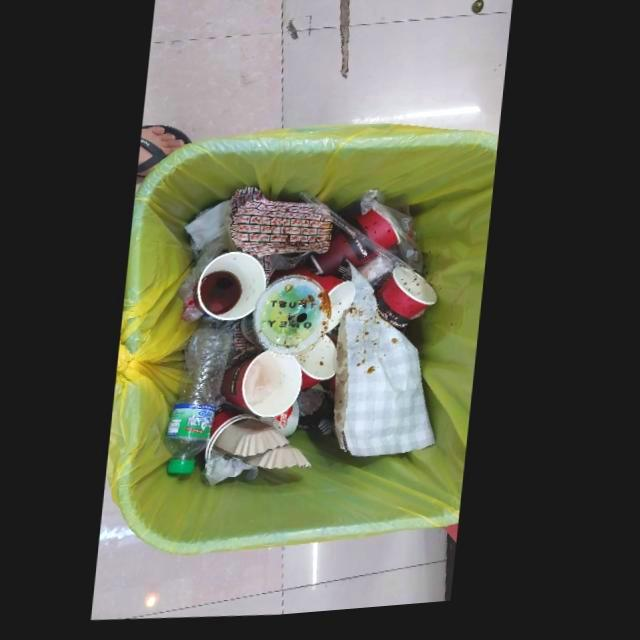cardboard: (233, 204, 337, 263), (225, 356, 307, 422), (197, 256, 269, 325), (294, 273, 359, 339), (380, 274, 441, 340), (314, 233, 380, 280), (353, 215, 404, 256), (298, 341, 341, 386), (250, 449, 317, 475)
paper: (349, 272, 442, 464), (219, 423, 295, 461)
plastic_bottle: (170, 331, 235, 477)
